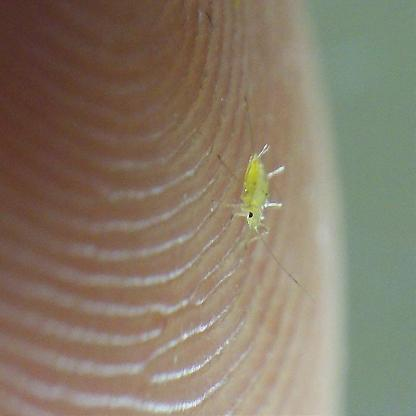aphid: (221, 131, 290, 242)
